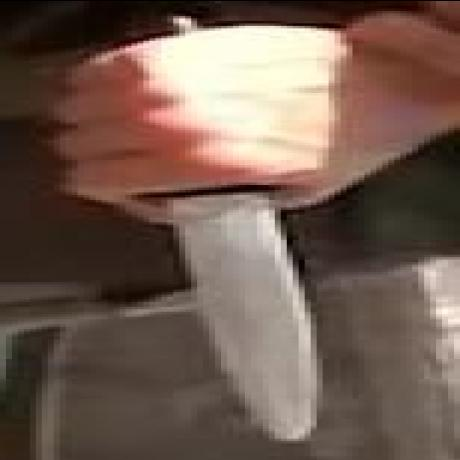1: (60, 6, 460, 223)
weapon: (161, 192, 332, 442)
